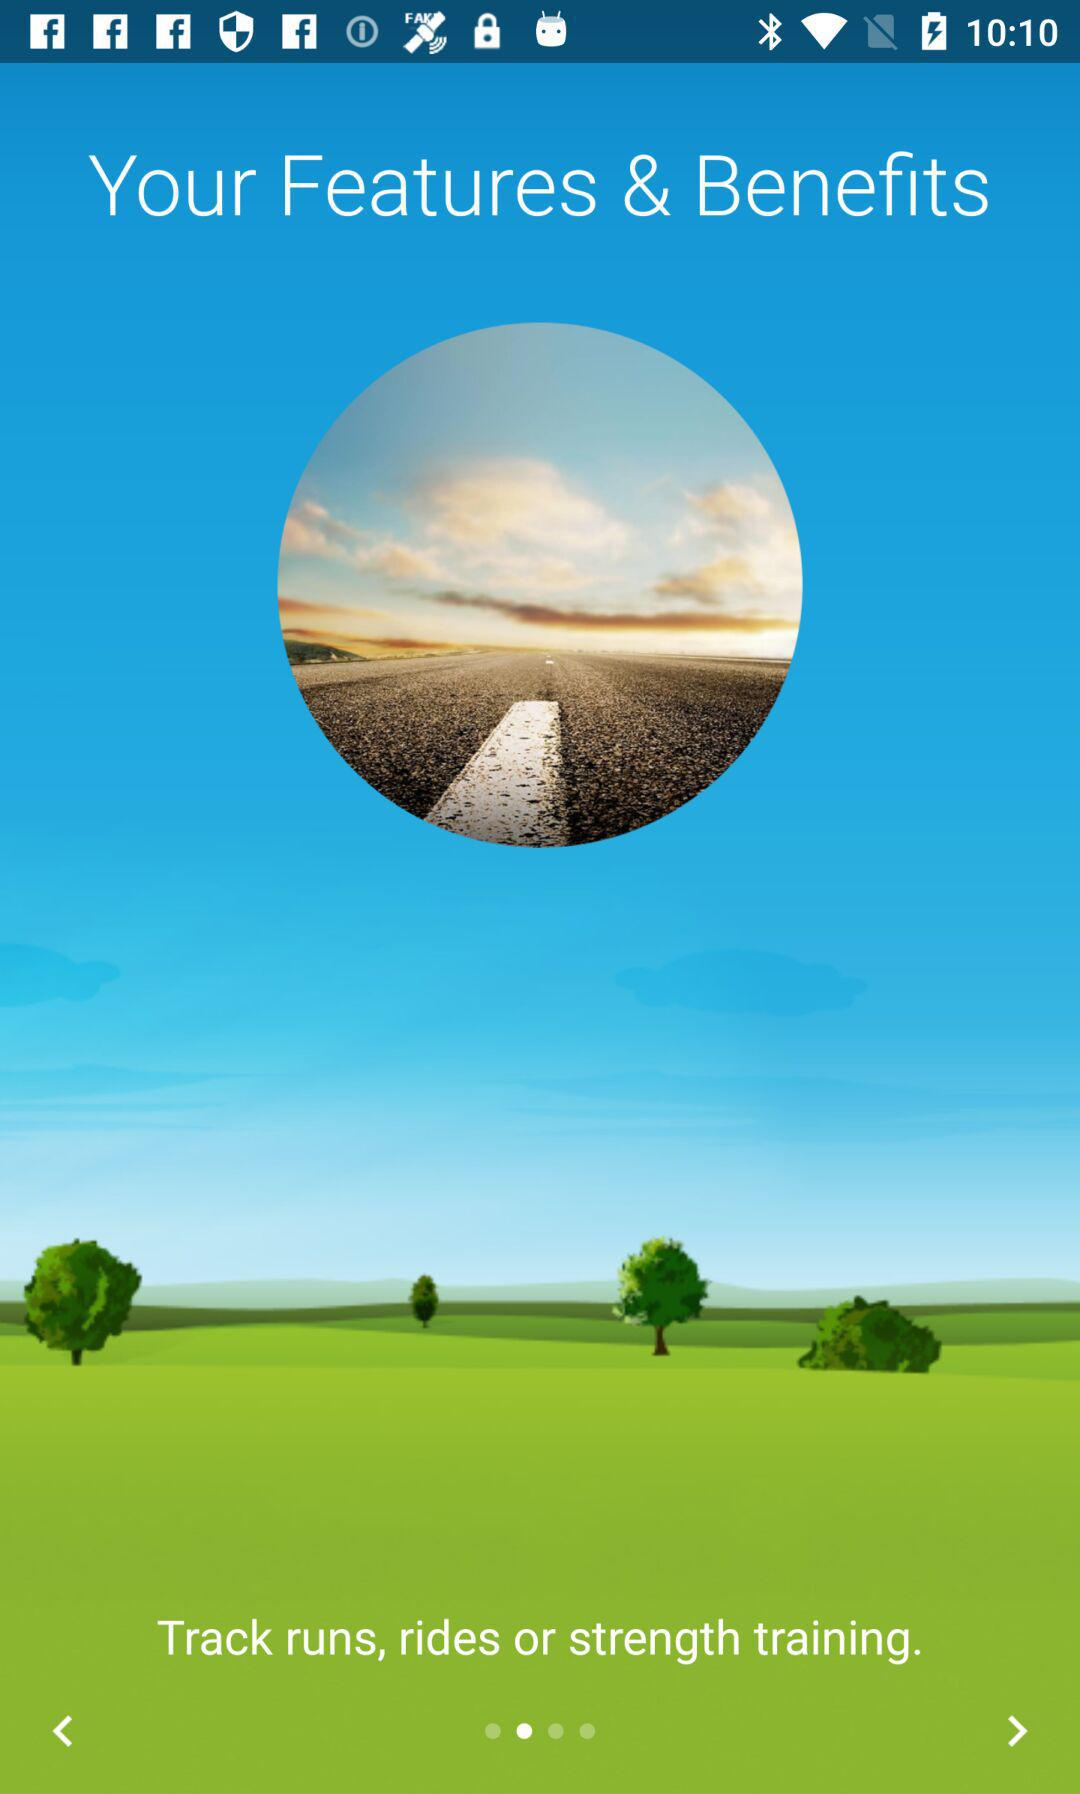BackgroundImage: (1, 64, 1080, 1794)
Icon: (51, 1715, 76, 1748), (1007, 1715, 1030, 1748)
Image: (277, 322, 805, 850)
PageIndicator: (484, 1721, 598, 1741)
Text: (88, 150, 989, 218), (158, 1617, 921, 1666)
UpperTaskBar: (1, 1, 1080, 64)
